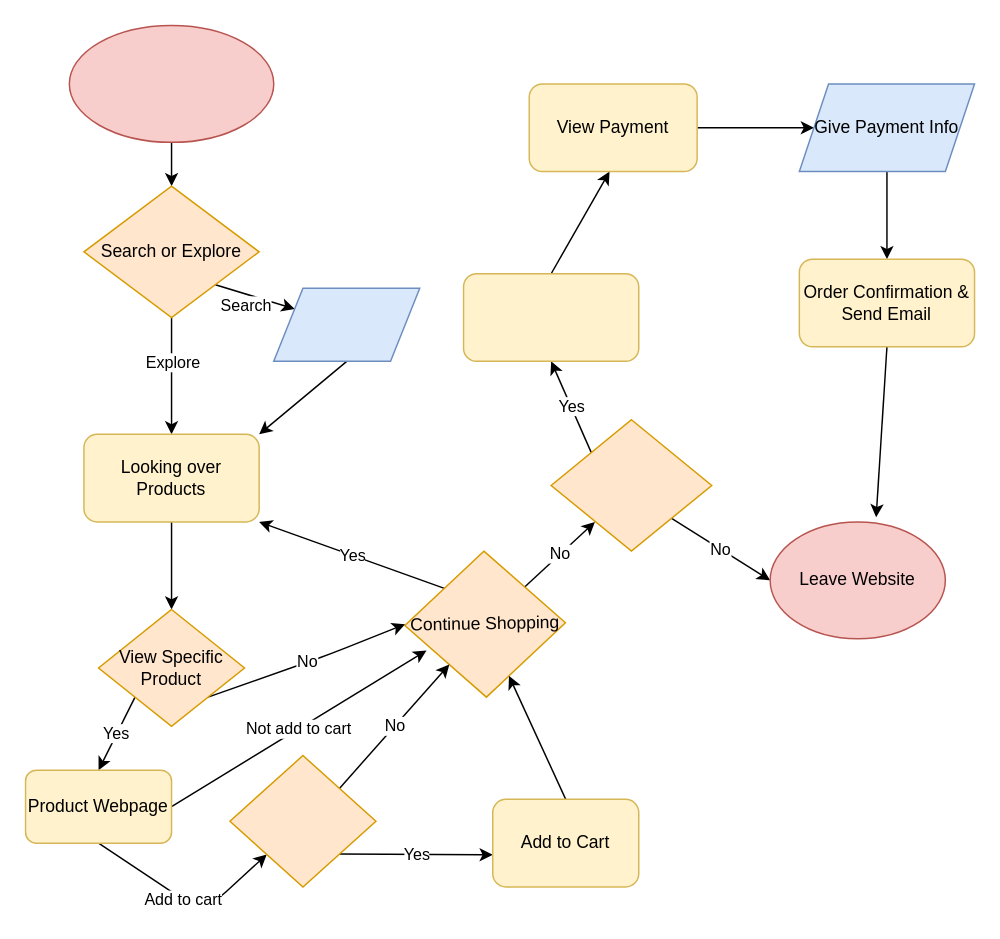
Some shapes in this 1000 by 939 pixel diagram are drawn without their labels. Each missing label, with the box of its shape:
Checkout: (550, 418, 712, 551)
Confirmation: (228, 754, 376, 887)
Entering Website: (68, 24, 274, 142)
Provide Input: (272, 287, 420, 361)
View Chart: (462, 272, 639, 361)
